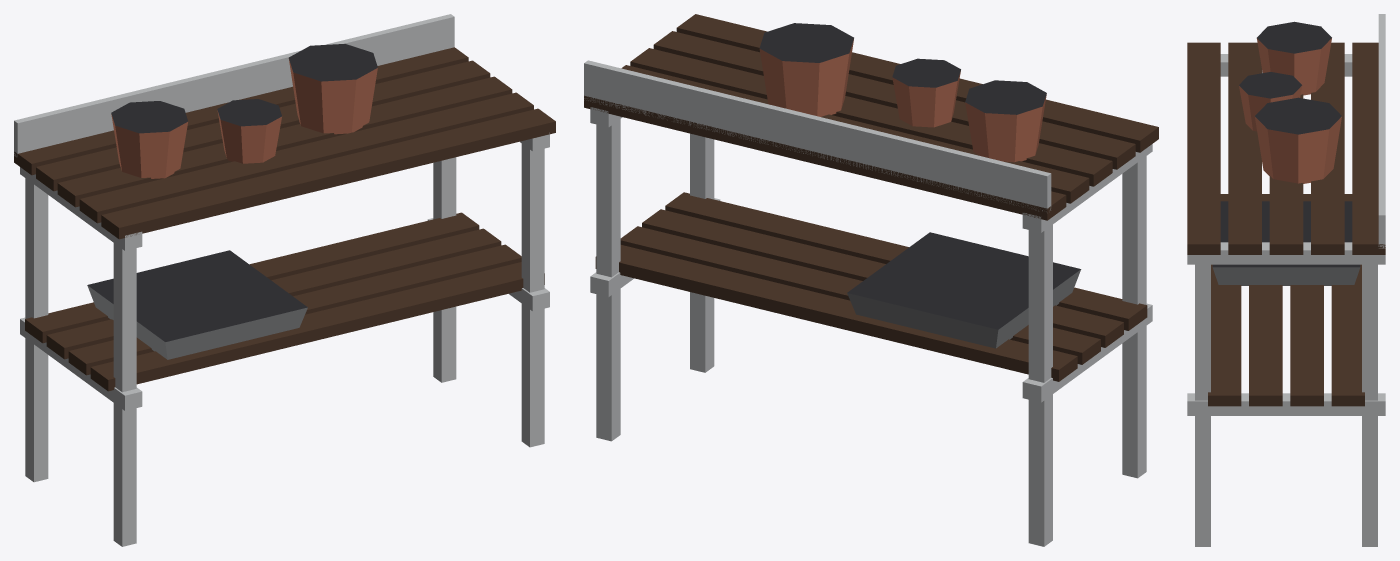
File: FN_Shelf_Garden.obj
The picture shows the model from 3 angles, left to right: view 1: azimuth 30°, elevation 25°; view 2: azimuth 150°, elevation 25°; view 3: azimuth 270°, elevation 25°; orthographic projection. The views are drawn at different scales.
Parts seen in each view (by area): view 1: FN_Shelf_Garden; view 2: FN_Shelf_Garden; view 3: FN_Shelf_Garden.
Part boxes in pixels (left/top/right/bottom): FN_Shelf_Garden: left=14, top=14, right=555, bottom=546; FN_Shelf_Garden: left=584, top=14, right=1158, bottom=546; FN_Shelf_Garden: left=1187, top=14, right=1385, bottom=546.
Size of the model in its own units: 1.2 by 0.996 by 0.5.
1 material, 1 textured.
